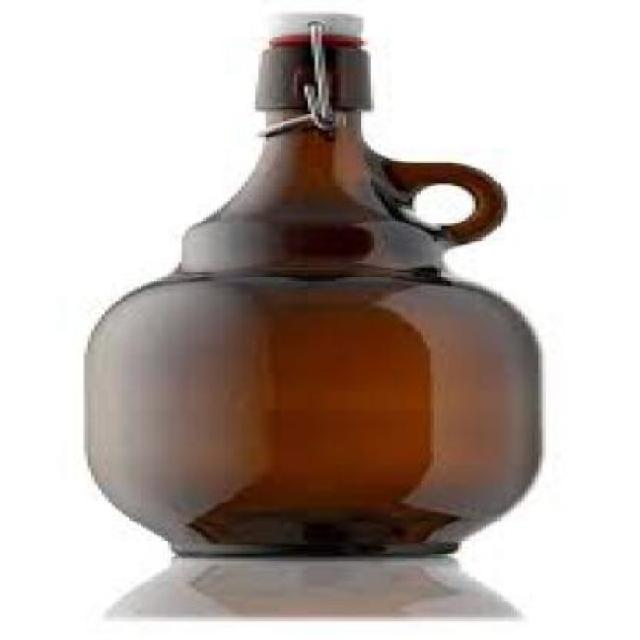kaca: (77, 45, 538, 557)
